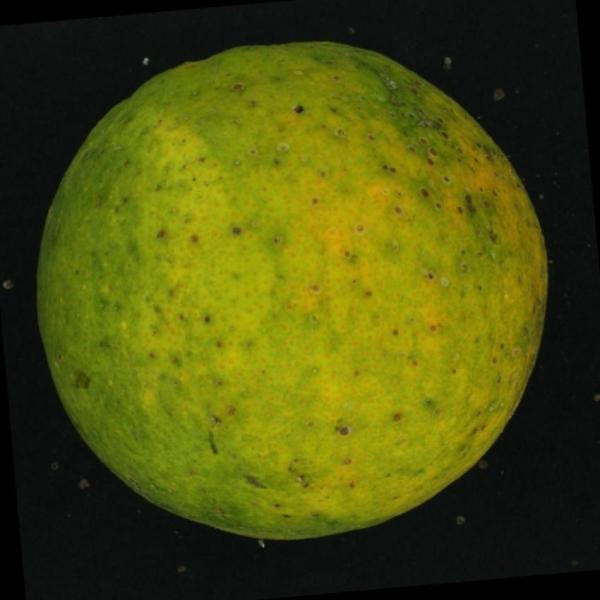Greening: (26, 31, 562, 551)
